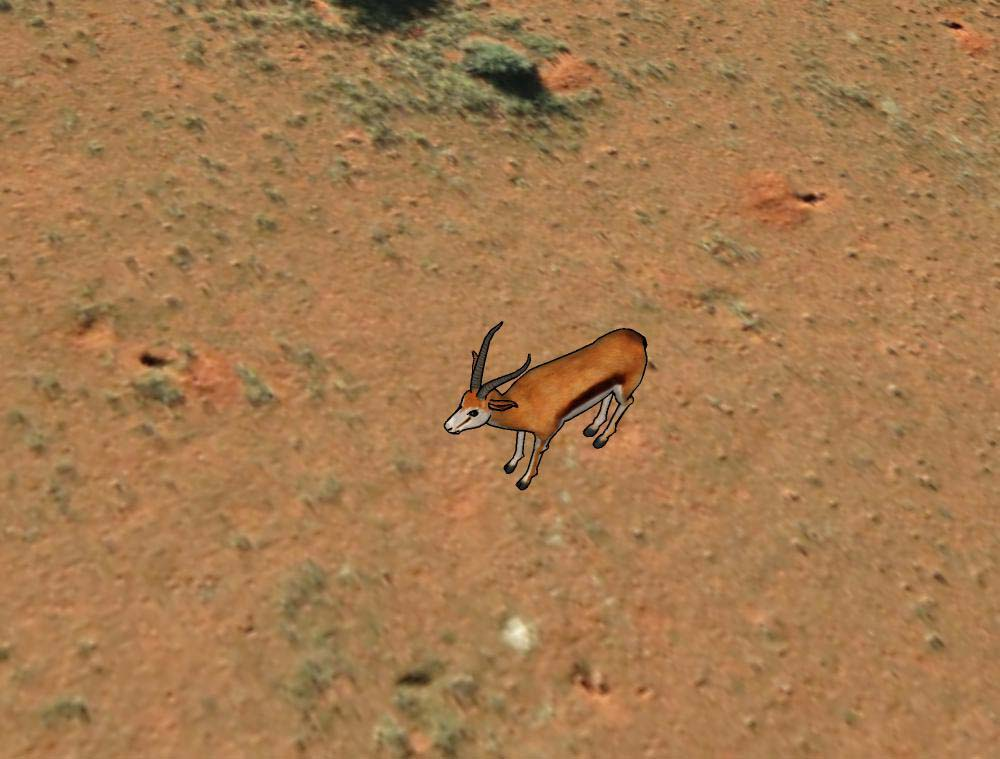springbok: (442, 317, 653, 492)
